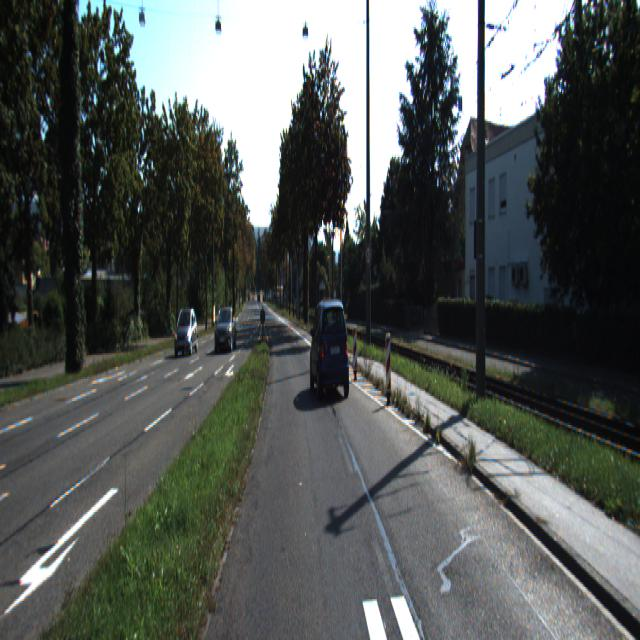Car: (309, 297, 351, 403), (174, 308, 198, 358), (214, 308, 236, 356)
